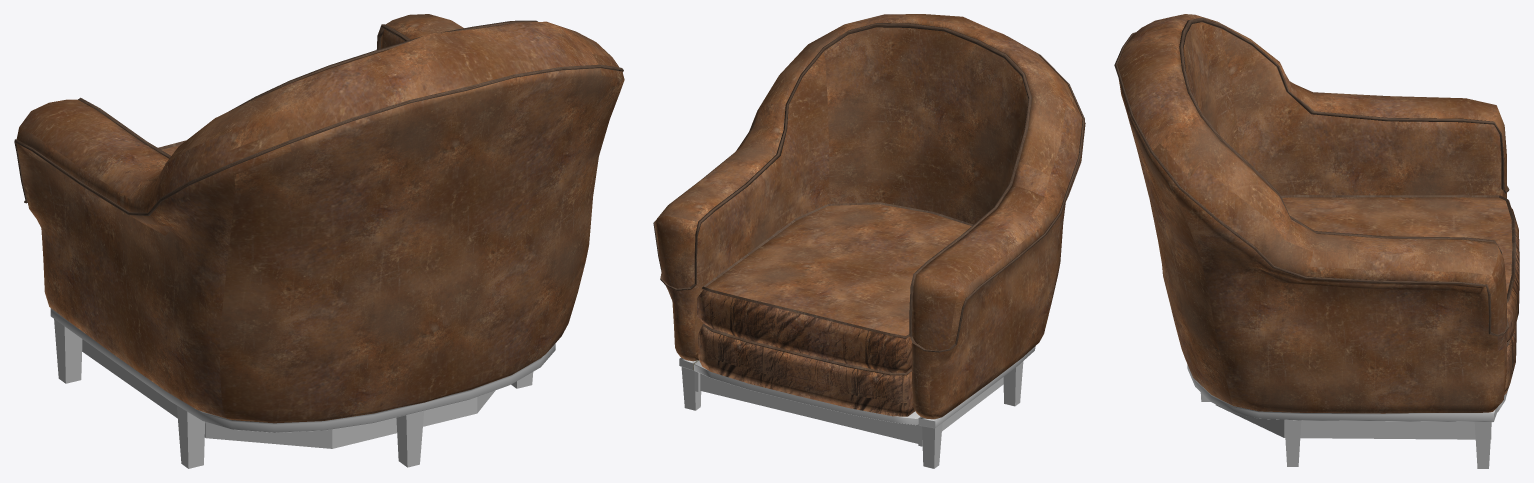
Rendered from SeatA.fbx.
3 views of the same model, side by side, from view 1: azimuth 30°, elevation 25°; view 2: azimuth 150°, elevation 25°; view 3: azimuth 270°, elevation 25° (orthographic). The views are drawn at different scales.
Visible parts, largest first — view 1: SeatA; view 2: SeatA; view 3: SeatA.
Part boxes in pixels (box(x1,y1,x2,y2)): SeatA: box(14, 14, 624, 468); SeatA: box(653, 14, 1085, 468); SeatA: box(1114, 14, 1519, 468).
Bounding box in the file's own units: 123 × 118 × 121.
